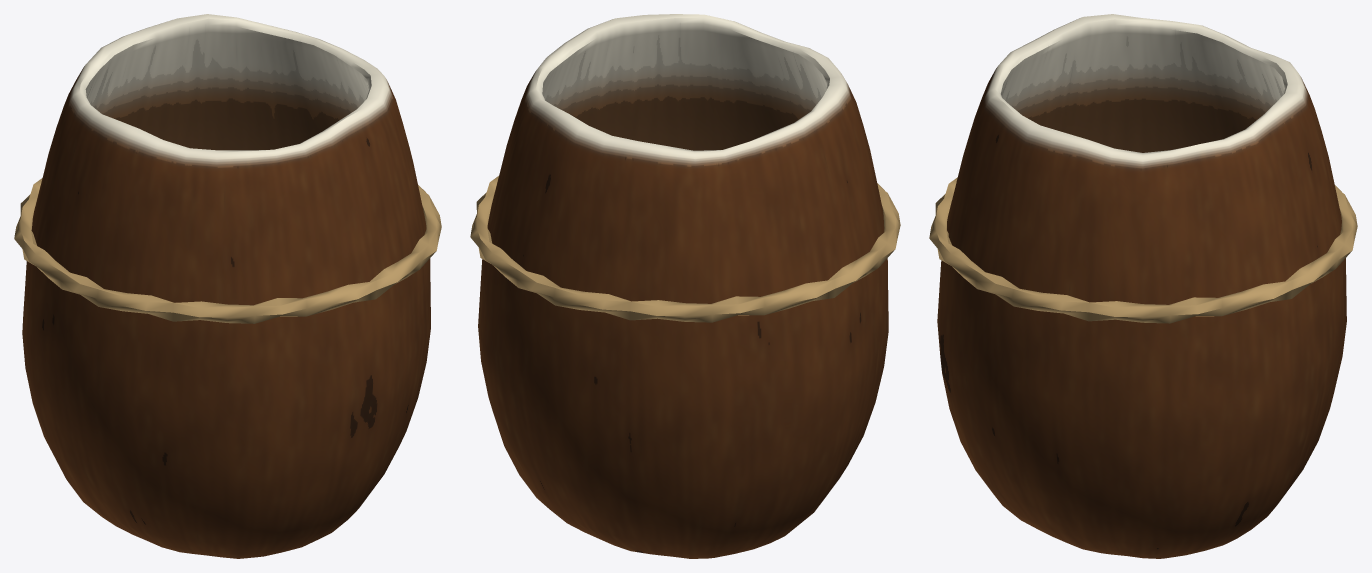
The model's file is Cup_Coconut.fbx.
3 renders of one model, left to right at view 1: azimuth 30°, elevation 25°; view 2: azimuth 150°, elevation 25°; view 3: azimuth 270°, elevation 25°, orthographic.
Visible parts, largest first — view 1: Cup_Coconut; view 2: Cup_Coconut; view 3: Cup_Coconut.
Part boxes in pixels (box(x1,y1,x2,y2)): Cup_Coconut: box(14, 14, 441, 558); Cup_Coconut: box(470, 14, 900, 558); Cup_Coconut: box(929, 14, 1357, 558).
Size of the model in its own units: 0.776 by 0.8995 by 0.7773.
1 material, 1 textured.
